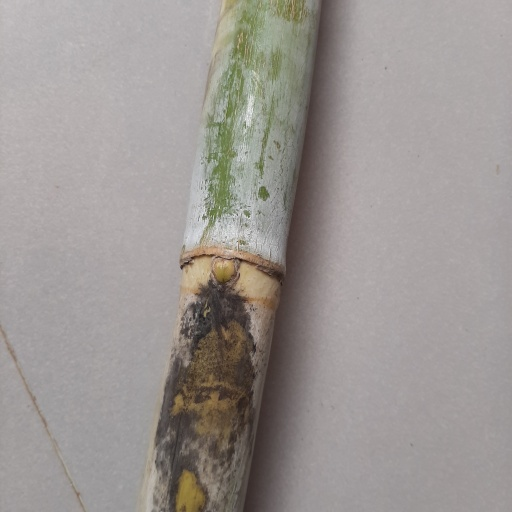Bud: (208, 254, 242, 287)
